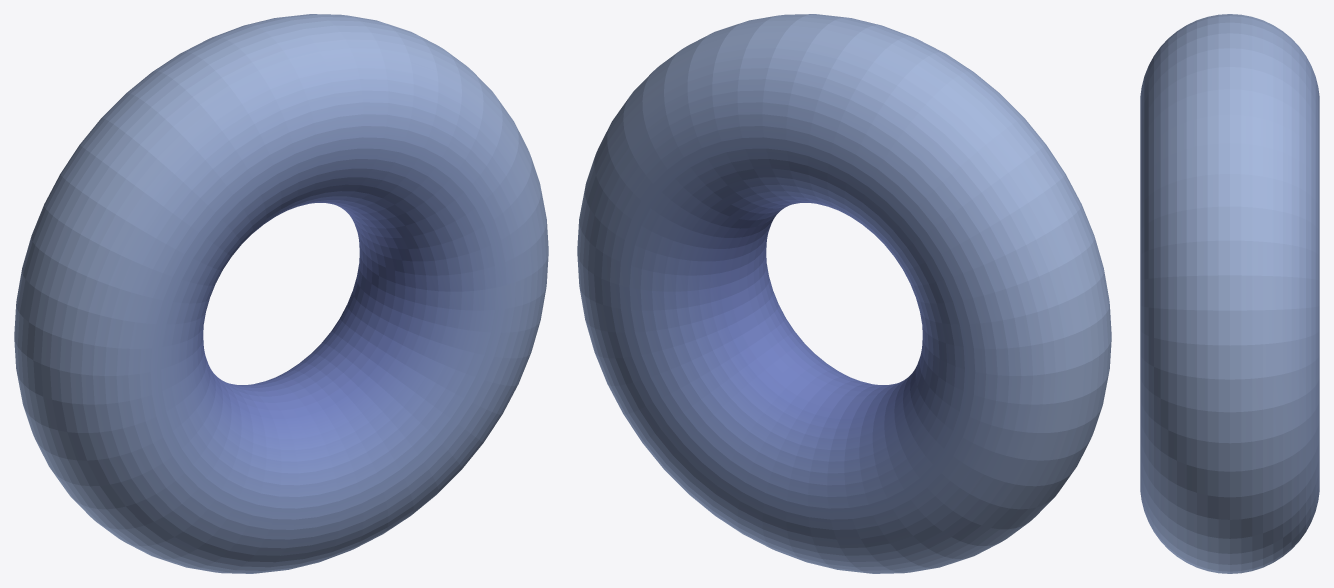
3 renders of one model, left to right at view 1: azimuth 30°, elevation 25°; view 2: azimuth 150°, elevation 25°; view 3: azimuth 270°, elevation 25°, orthographic. The views are drawn at different scales.
Visible parts, largest first — view 1: world; view 2: world; view 3: world.
Boxes of the visible parts, x1,y1,x2,y2 form: world: (14,14,548,573); world: (577,14,1111,573); world: (1140,14,1319,573).
Bounding box in the file's own units: 18.67 × 18.63 × 5.99.
